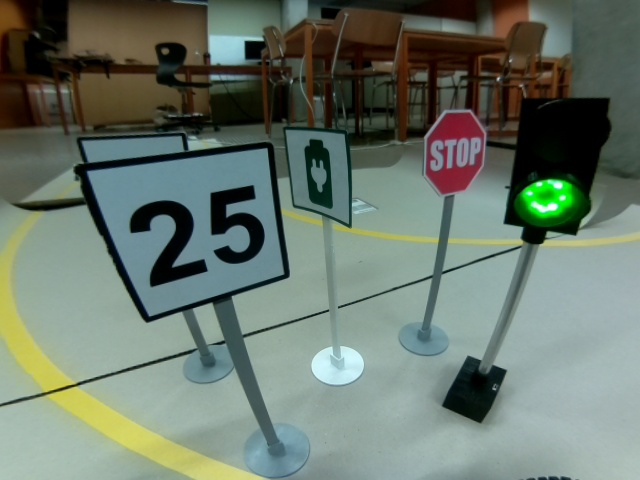battery: (281, 126, 353, 230)
speed25: (72, 141, 290, 323)
stop: (422, 108, 486, 198)
trafficLightGreen: (502, 96, 611, 238)
